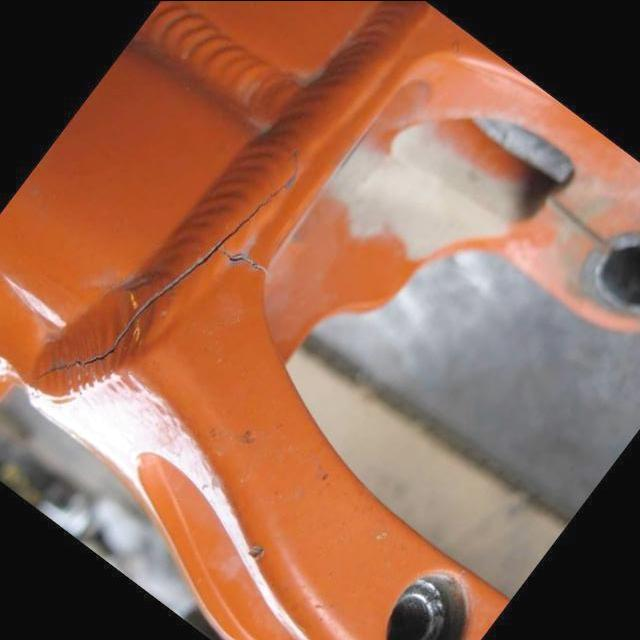defect: (33, 147, 302, 395)
